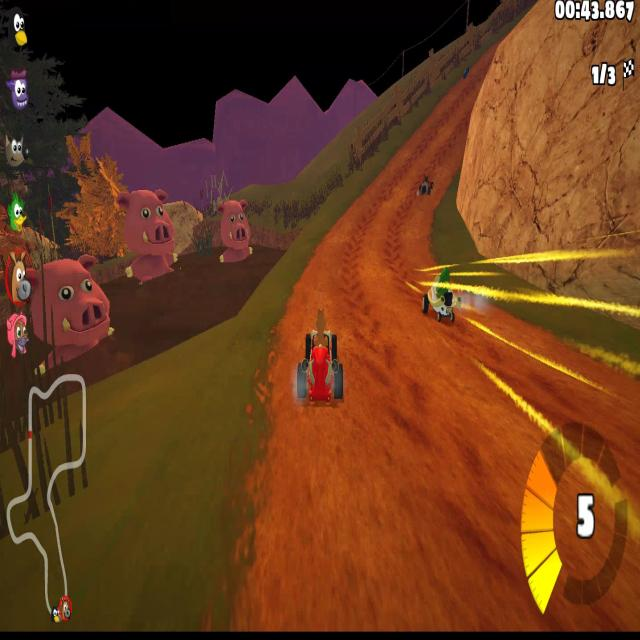enemy_kart: (421, 263, 456, 325), (416, 176, 436, 197)
player_kart: (297, 305, 345, 402)
track: (266, 451, 640, 634), (345, 366, 640, 455), (347, 323, 592, 368), (310, 257, 419, 296), (346, 202, 431, 252), (273, 404, 347, 456), (349, 296, 423, 324), (415, 122, 462, 163), (367, 178, 414, 205), (283, 308, 294, 410), (442, 91, 473, 120), (459, 54, 494, 78), (324, 221, 347, 257), (386, 158, 410, 182), (397, 144, 414, 165), (294, 276, 311, 294), (431, 104, 441, 120)
